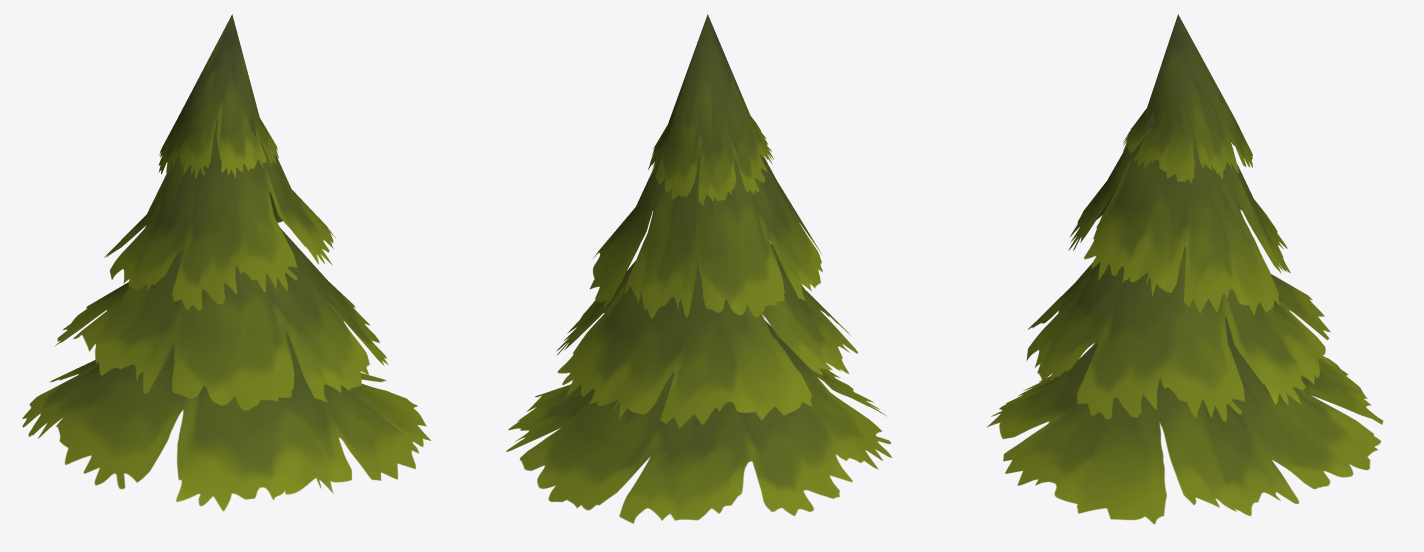
The model's file is pine_low.glb.
3 renders of one model, left to right at view 1: azimuth 30°, elevation 25°; view 2: azimuth 150°, elevation 25°; view 3: azimuth 270°, elevation 25°, orthographic.
Visible parts, largest first — view 1: tree 2; view 2: tree 2; view 3: tree 2.
Part boxes in pixels (box(x1,y1,x2,y2)): tree 2: box(22, 14, 430, 511); tree 2: box(506, 14, 891, 523); tree 2: box(986, 14, 1383, 524).
Size of the model in its own units: 0.9669 by 1.02 by 0.9549.
1 material, 1 textured.
